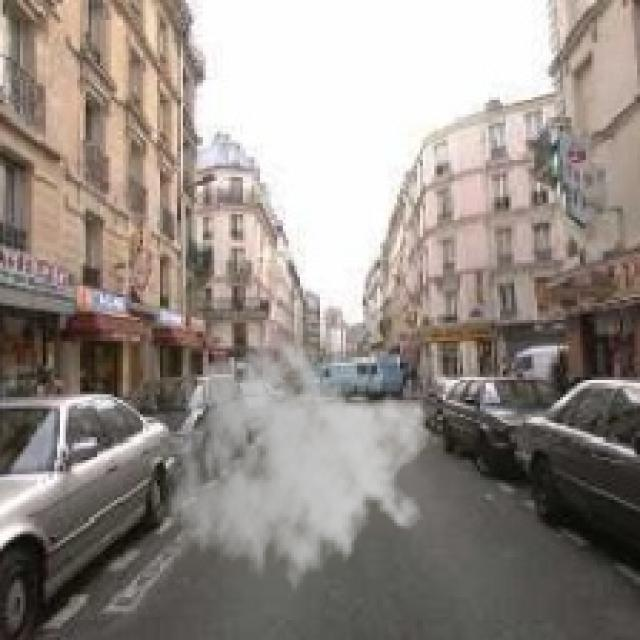Smoke: (162, 331, 432, 606)
